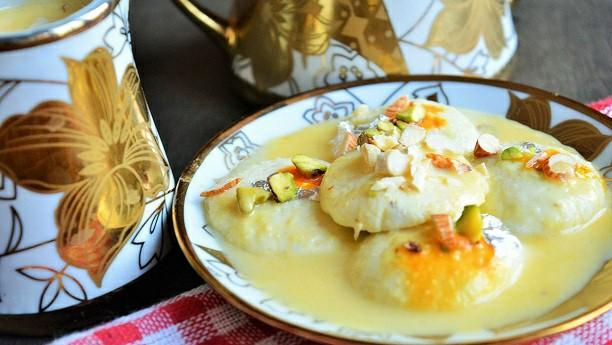RasMalai: (202, 97, 612, 336)
